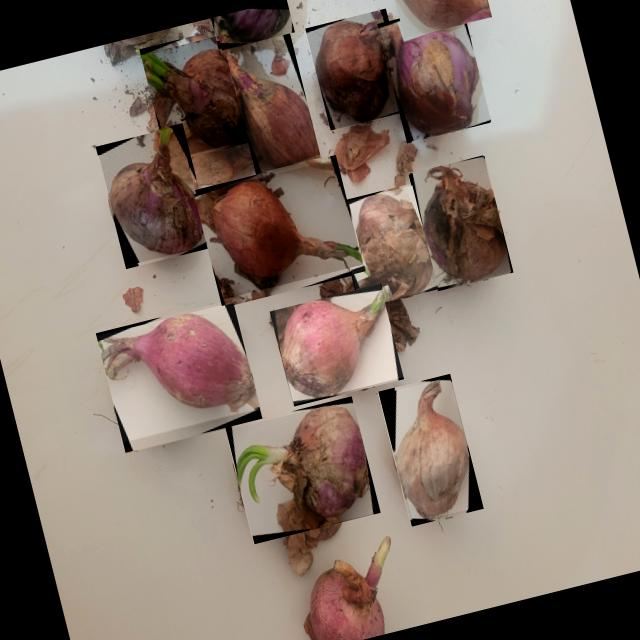healthy: (404, 0, 486, 27)
rotten: (236, 406, 369, 529), (223, 44, 321, 170), (108, 128, 202, 254), (346, 194, 444, 299), (141, 50, 247, 147), (395, 381, 467, 519), (386, 24, 476, 134), (422, 167, 505, 282), (315, 20, 391, 122), (214, 7, 290, 42)
sprouting: (195, 180, 363, 277), (101, 315, 259, 413), (280, 289, 385, 397)
